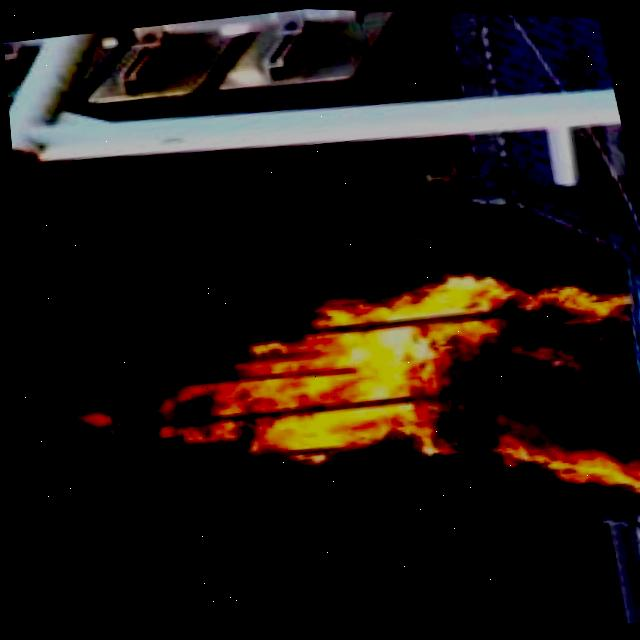Fire: (133, 247, 640, 546)
